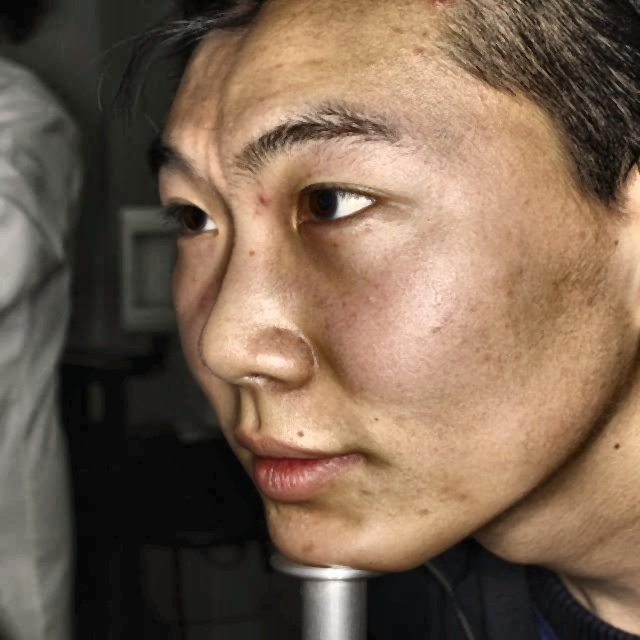comedone: (242, 186, 290, 220)
